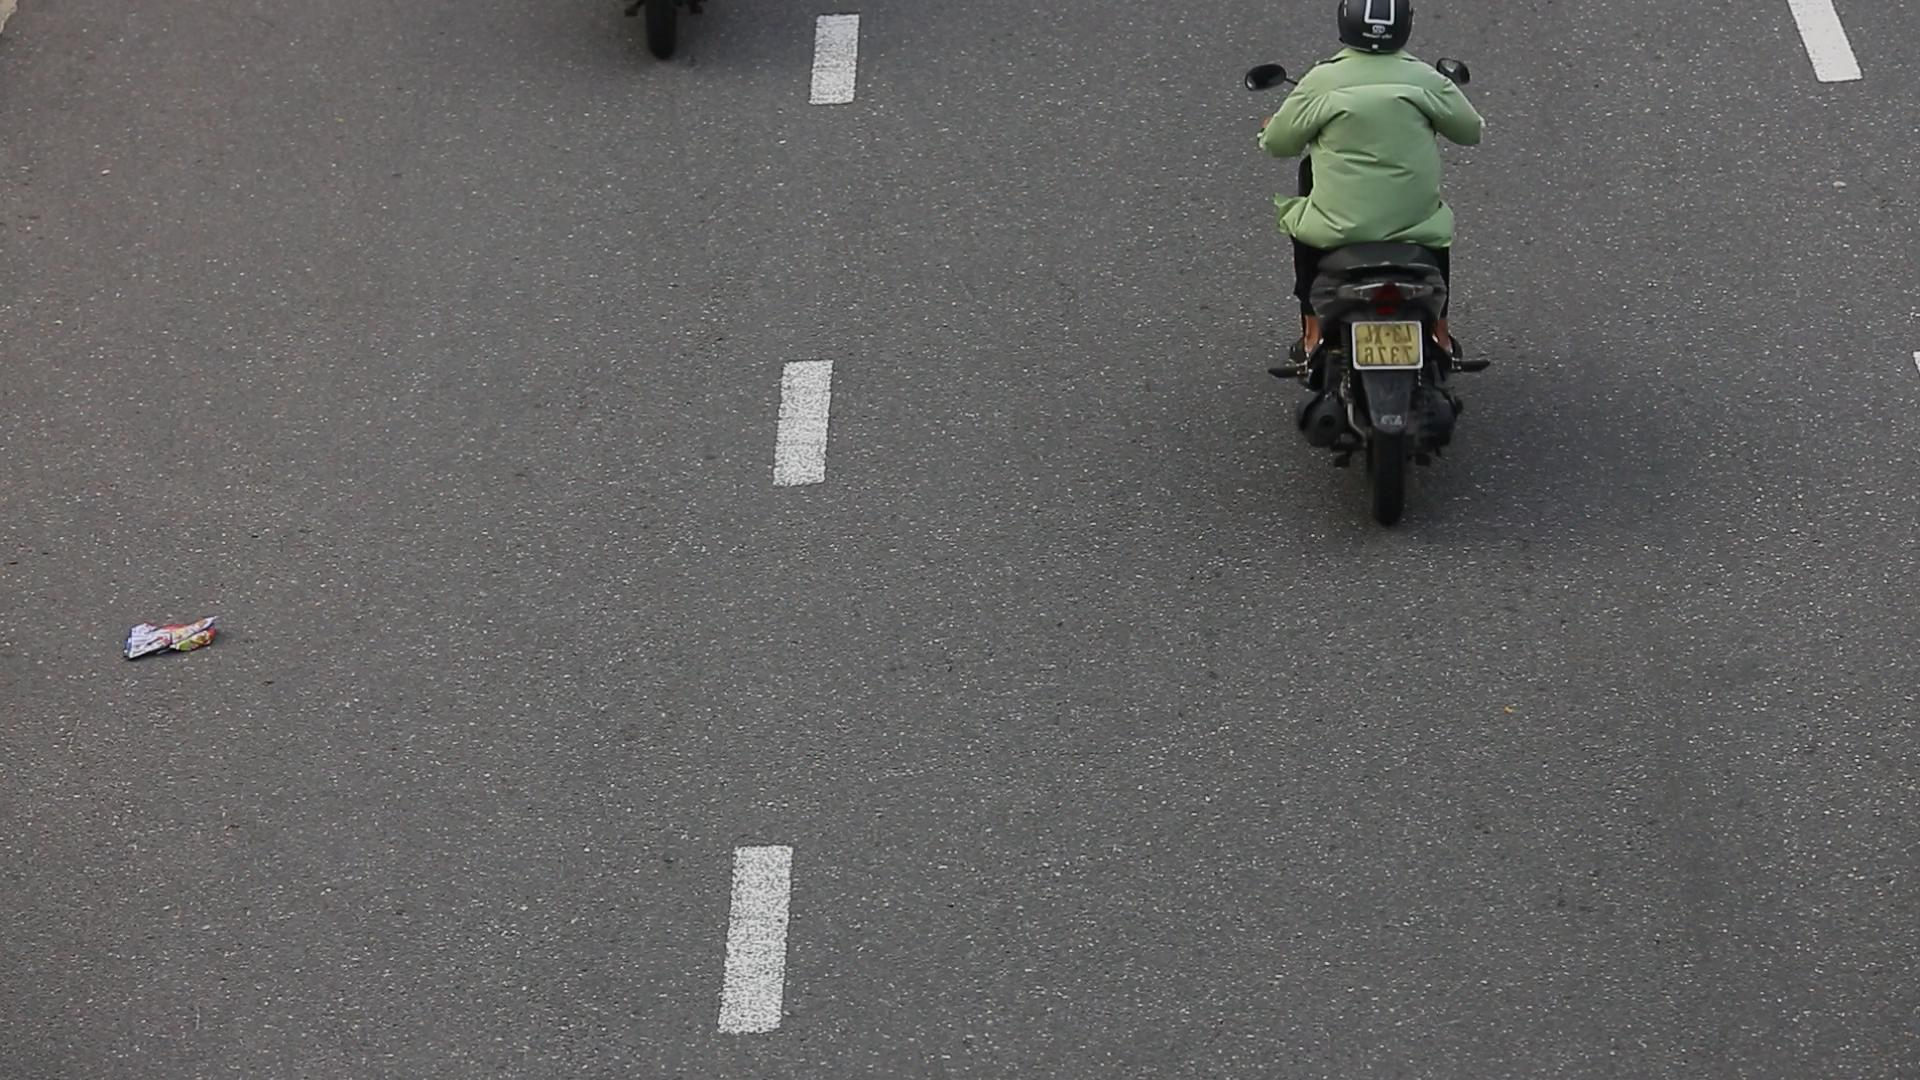motobike: (1224, 0, 1513, 529)
